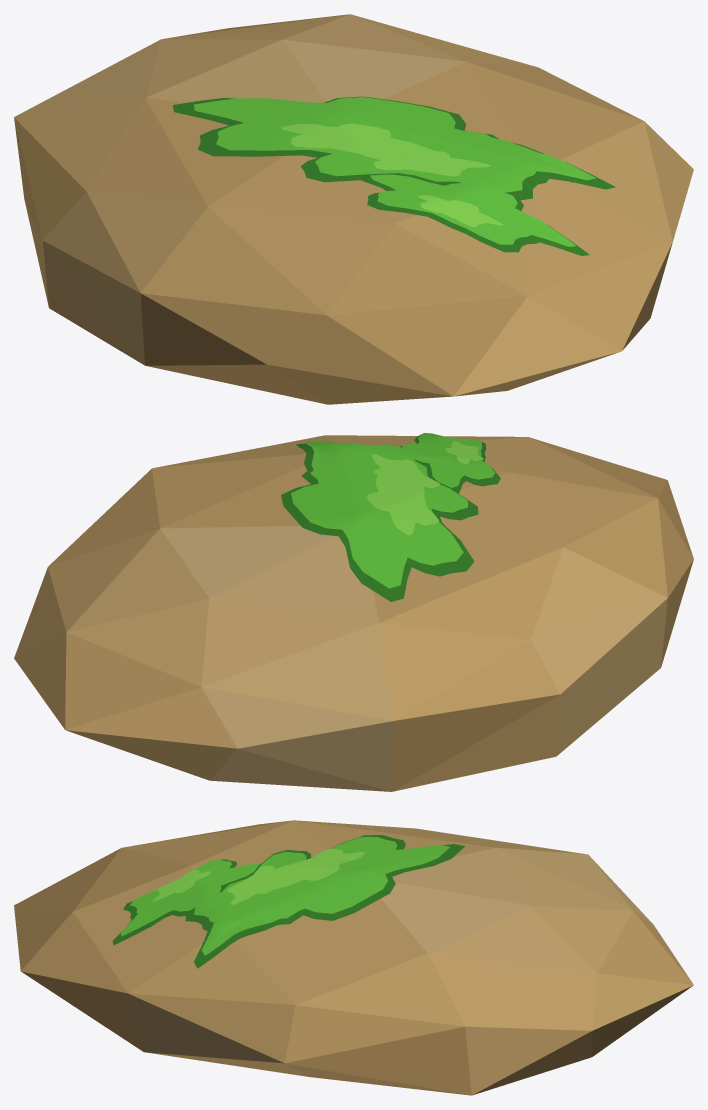
Rendered from rock_1_streak.glb.
3 renders of one model, top to bottom at view 1: azimuth 30°, elevation 25°; view 2: azimuth 150°, elevation 25°; view 3: azimuth 270°, elevation 25°, orthographic. The views are drawn at different scales.
Visible parts, largest first — view 1: rock_1_streak; view 2: rock_1_streak; view 3: rock_1_streak.
Part boxes in pixels (x1,y1,x2,y2): rock_1_streak: (14,14,693,404); rock_1_streak: (14,433,693,791); rock_1_streak: (14,820,693,1095).
Size of the model in its own units: 1.97 by 0.6233 by 2.6.
